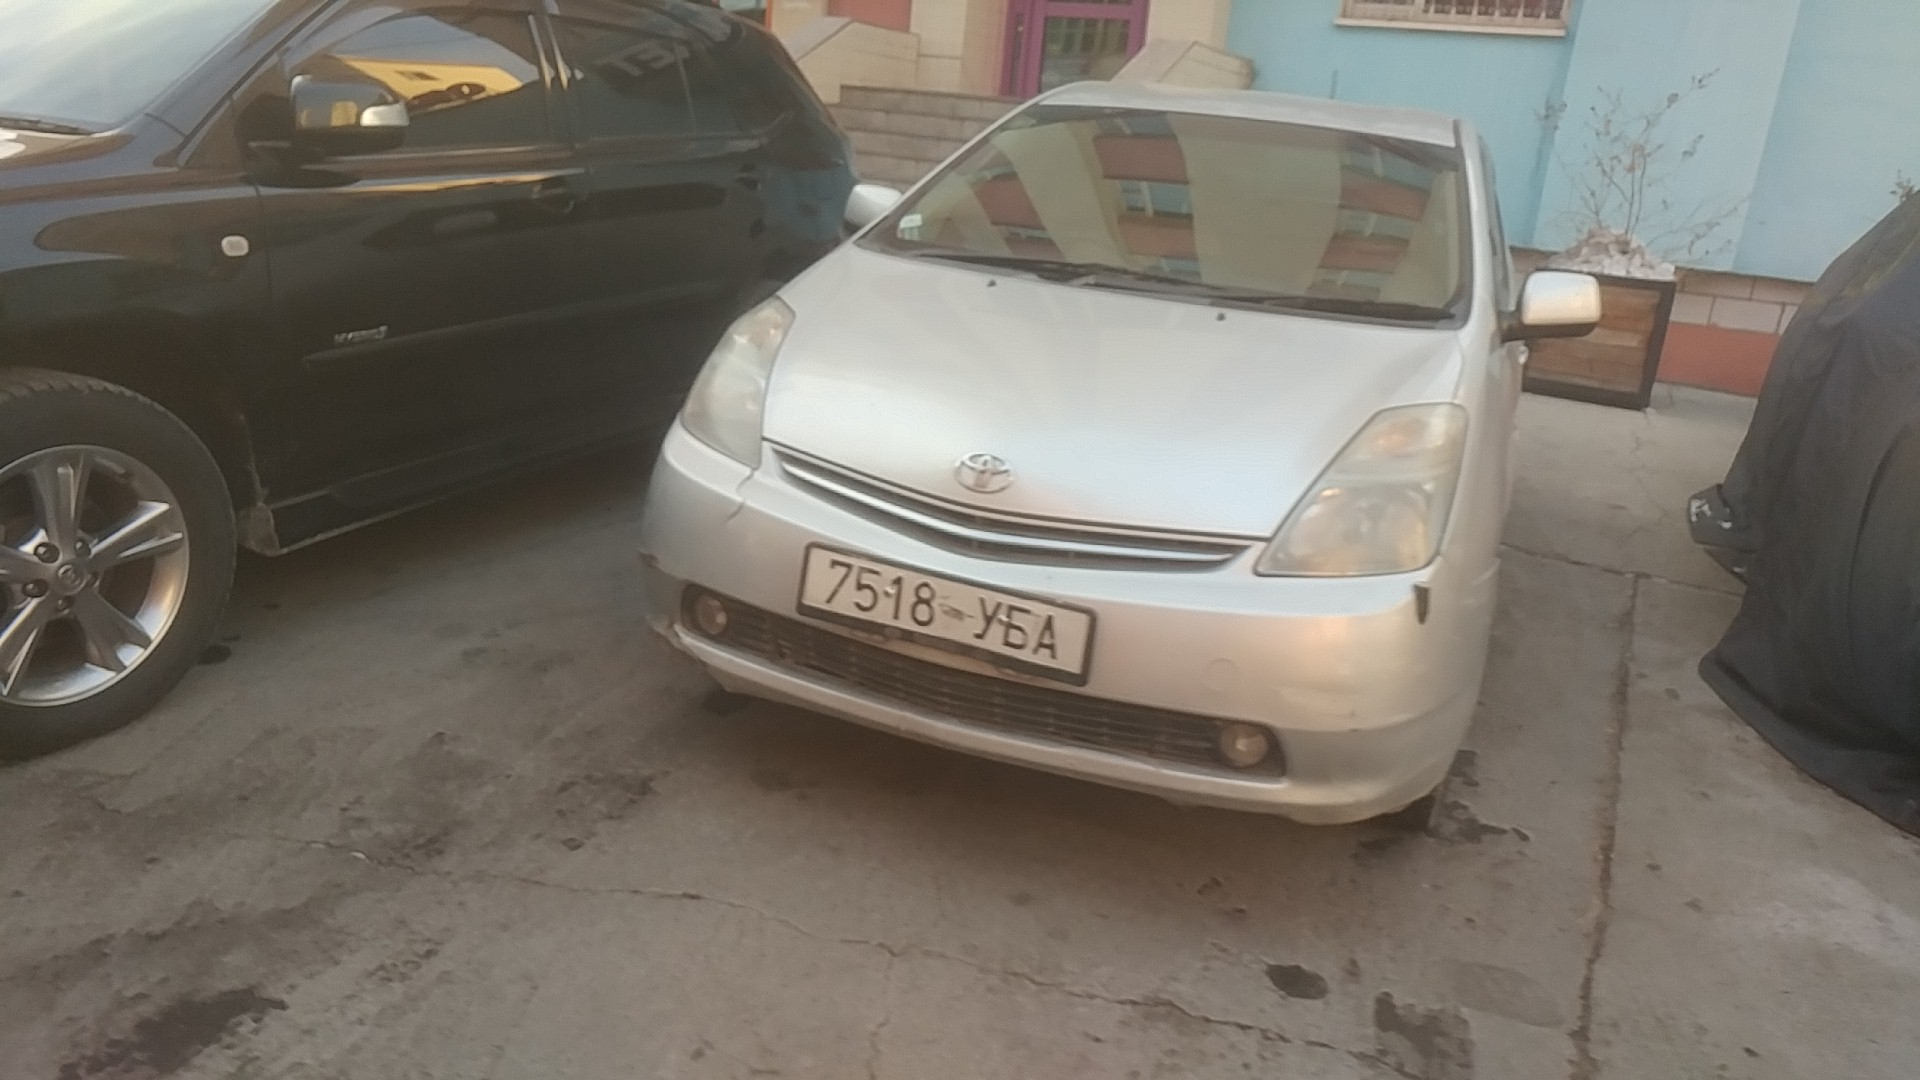1: (888, 572, 906, 622)
5: (854, 565, 880, 611)
7: (824, 557, 853, 603)
8: (909, 578, 938, 628)
a: (1030, 608, 1062, 662)
b: (1001, 600, 1032, 650)
plate: (793, 538, 1104, 693)
u: (972, 594, 1002, 641)
